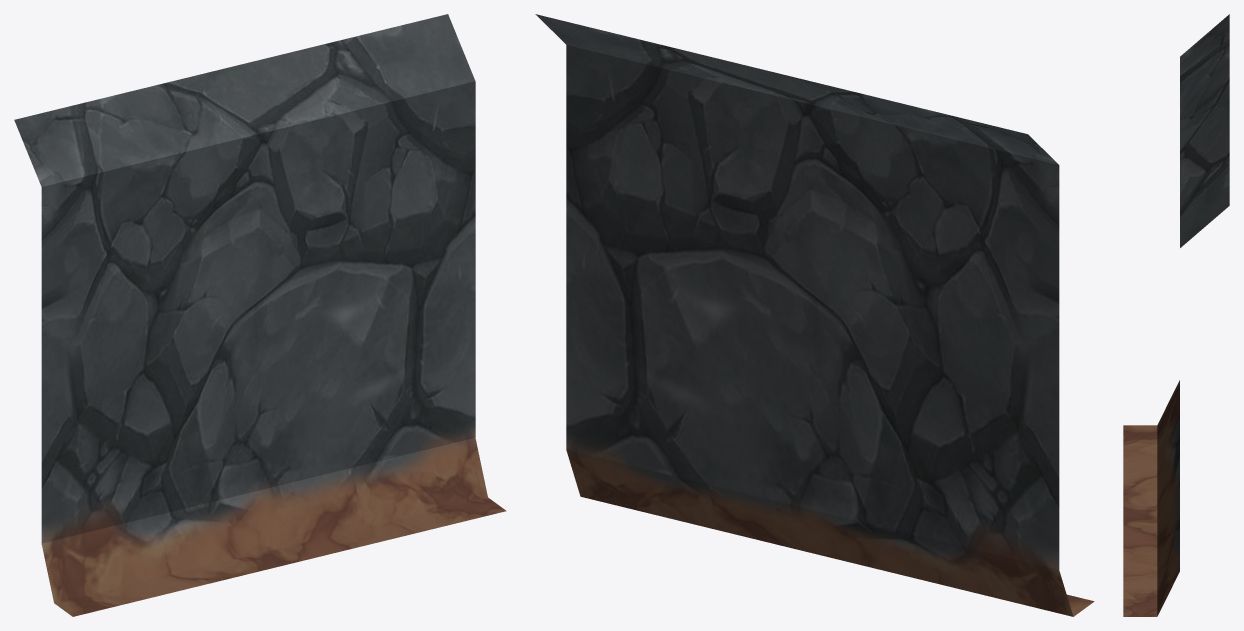
The model's file is StraightWallTile.fbx.
3 views of the same model, side by side, from view 1: azimuth 30°, elevation 25°; view 2: azimuth 150°, elevation 25°; view 3: azimuth 270°, elevation 25° (orthographic). The views are drawn at different scales.
Parts seen in each view (by area): view 1: StraightWall; view 2: StraightWall; view 3: StraightWall.
Part boxes in pixels (x1=…): StraightWall: x1=14, y1=14, x2=506, y2=616; StraightWall: x1=535, y1=14, x2=1094, y2=616; StraightWall: x1=1123, y1=14, x2=1229, y2=616.
Size of the model in its own units: 100 by 100 by 23.44.
